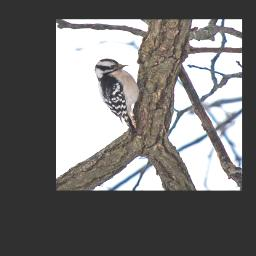Woodpecker: (94, 58, 151, 134)
